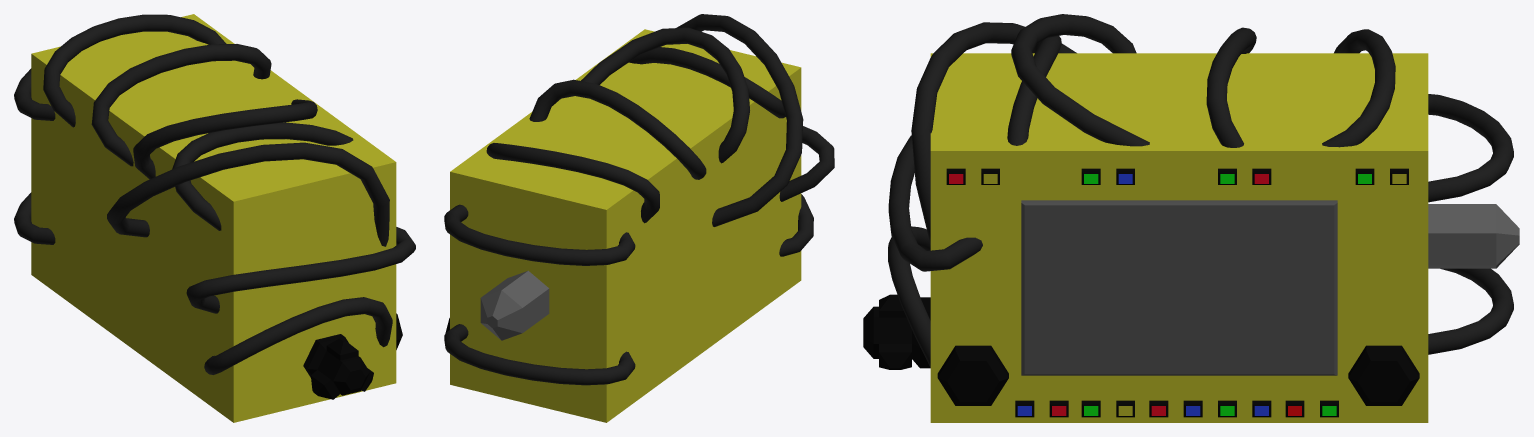
File: generator.fbx
3 views of the same model, side by side, from view 1: azimuth 30°, elevation 25°; view 2: azimuth 150°, elevation 25°; view 3: azimuth 270°, elevation 25° (orthographic). The views are drawn at different scales.
Visible parts, largest first — view 1: Куб.021, BézierCurve.008; view 2: Куб.021, BézierCurve.008; view 3: Куб.021, BézierCurve.008.
Boxes of the visible parts, box(x1,y1,x2,y2) form: Куб.021: box(31, 14, 402, 422); BézierCurve.008: box(14, 14, 415, 374); Куб.021: box(445, 29, 801, 422); BézierCurve.008: box(444, 14, 834, 385); Куб.021: box(863, 53, 1519, 422); BézierCurve.008: box(888, 14, 1513, 367).
Size of the model in its own units: 322 by 349 by 625.
